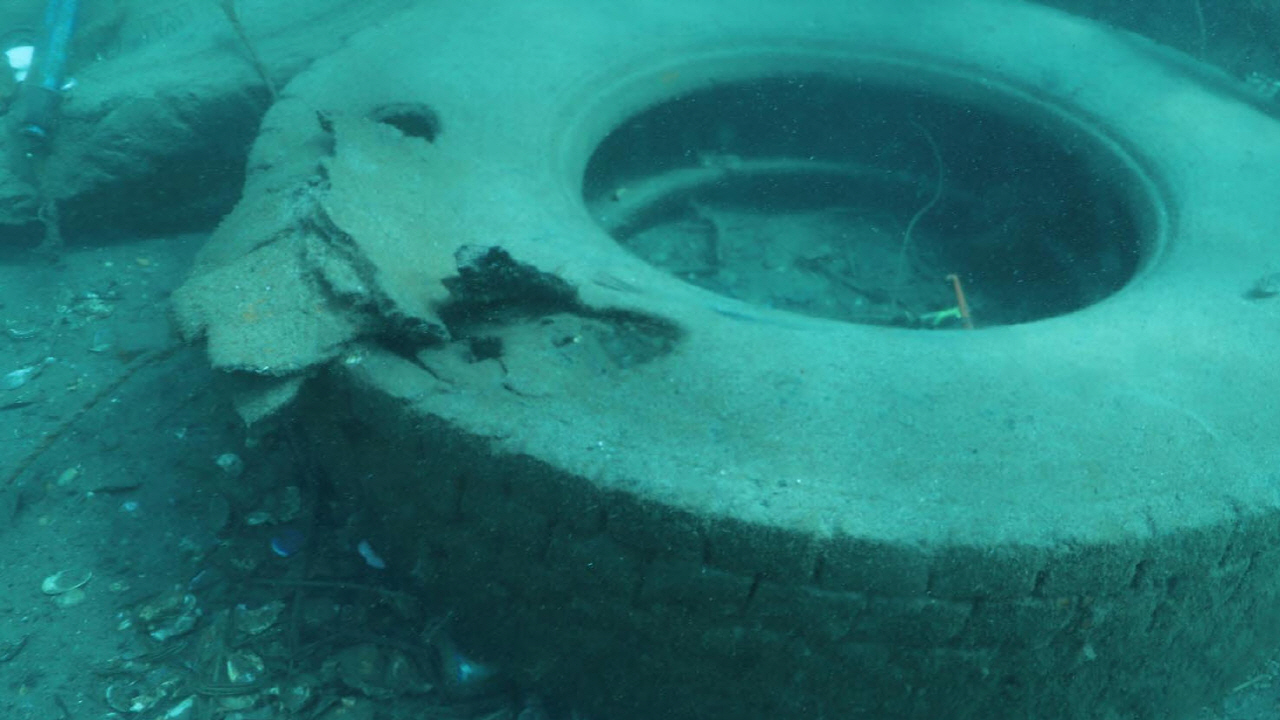tire: (242, 0, 1280, 720)
